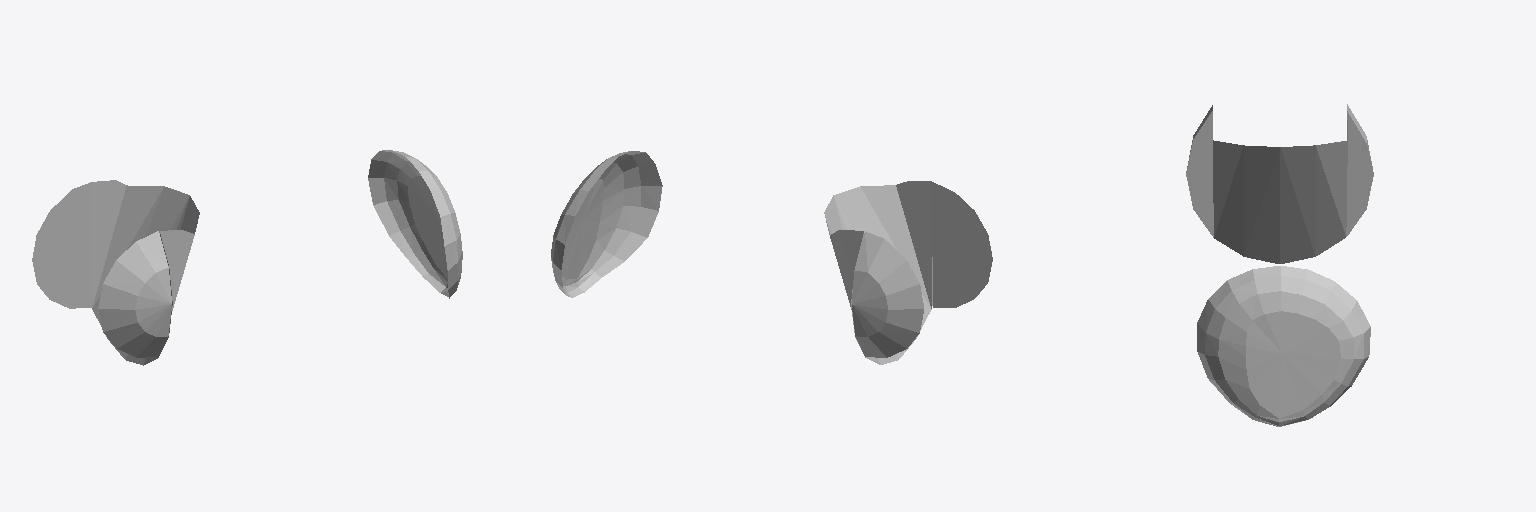
The model's file is RShoulderRoll_0.obj.
3 views of the same model, side by side, from view 1: azimuth 30°, elevation 25°; view 2: azimuth 150°, elevation 25°; view 3: azimuth 270°, elevation 25° (orthographic).
Size of the model in its own units: 0.2052 by 0.0837 by 0.0873.